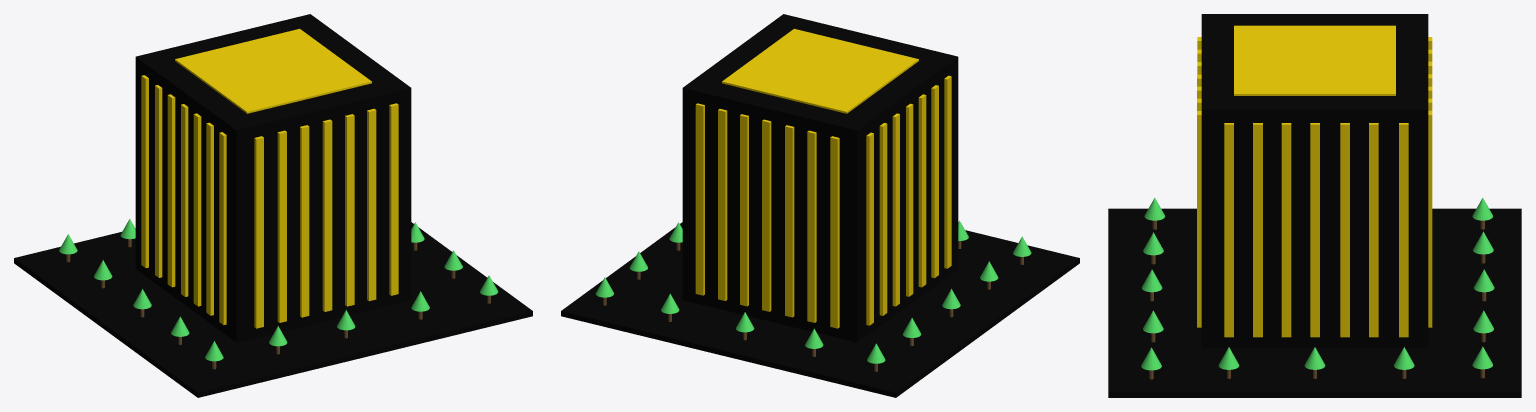
File: datacenter_yellow.glb
The picture shows the model from 3 angles, left to right: view 1: azimuth 30°, elevation 25°; view 2: azimuth 150°, elevation 25°; view 3: azimuth 270°, elevation 25°; orthographic projection. The views are drawn at different scales.
Visible parts, largest first — view 1: stick.003; view 2: stick.003; view 3: stick.003.
Boxes of the visible parts, x1,y1,x2,y2 form: stick.003: (14, 14, 532, 397); stick.003: (561, 14, 1079, 397); stick.003: (1108, 14, 1521, 397).
Size of the model in its own units: 26.83 by 16.79 by 25.52.
